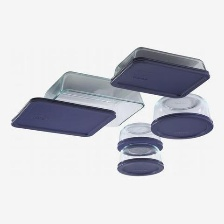plastic_box: (2, 66, 148, 145), (105, 42, 215, 102), (145, 91, 217, 144), (111, 120, 167, 181)
